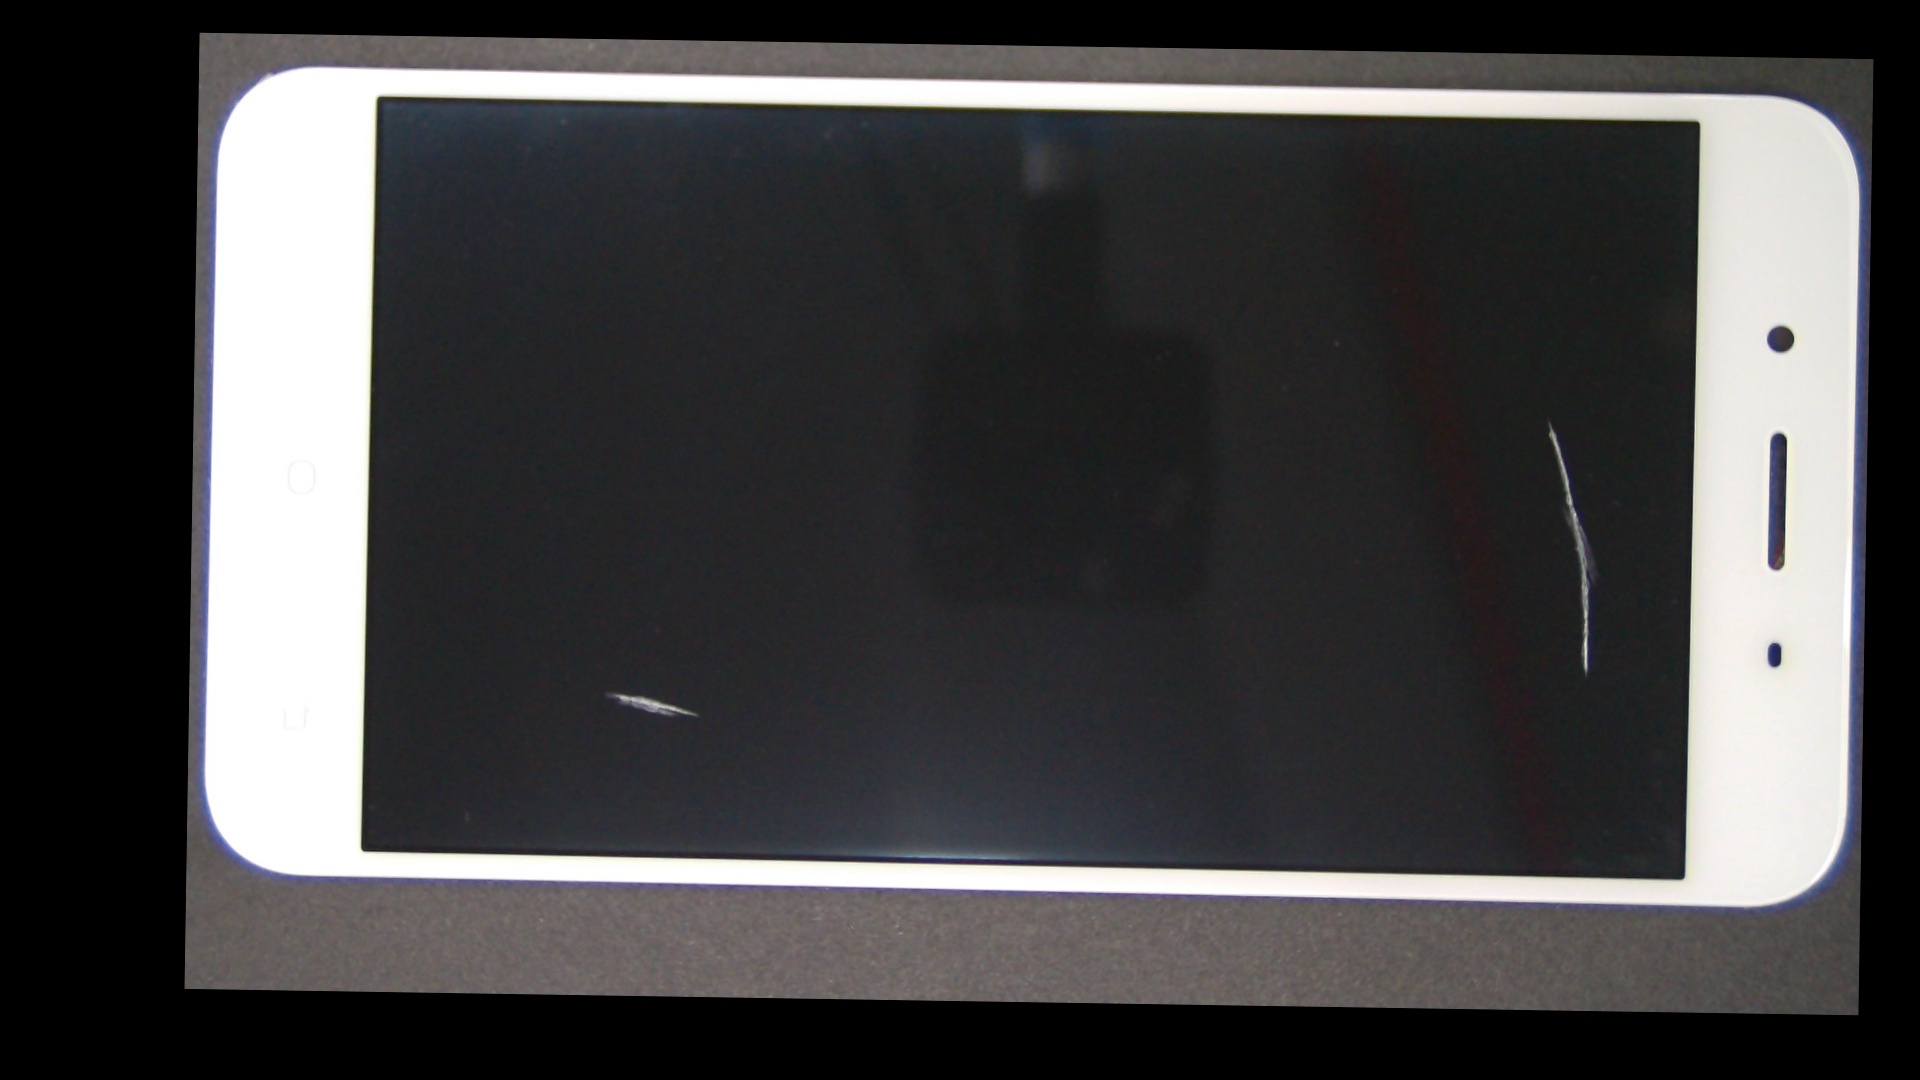oil: (869, 227, 1871, 612), (393, 361, 820, 998)
